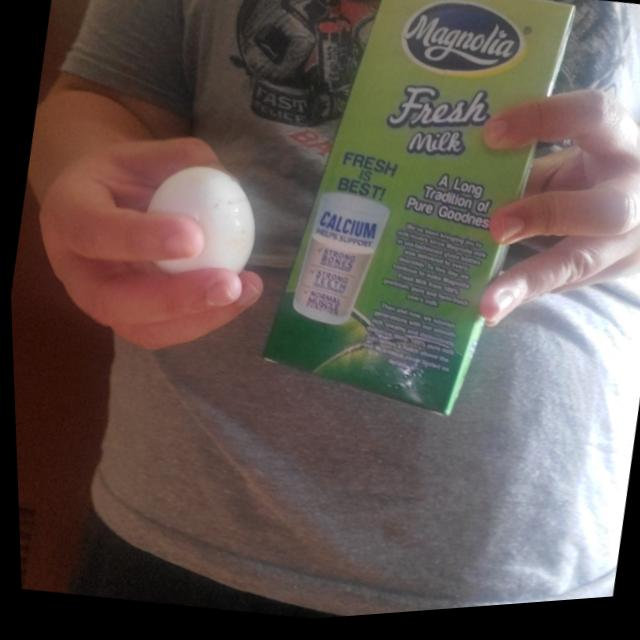egg: (132, 149, 268, 300)
milk: (235, 0, 591, 444)
